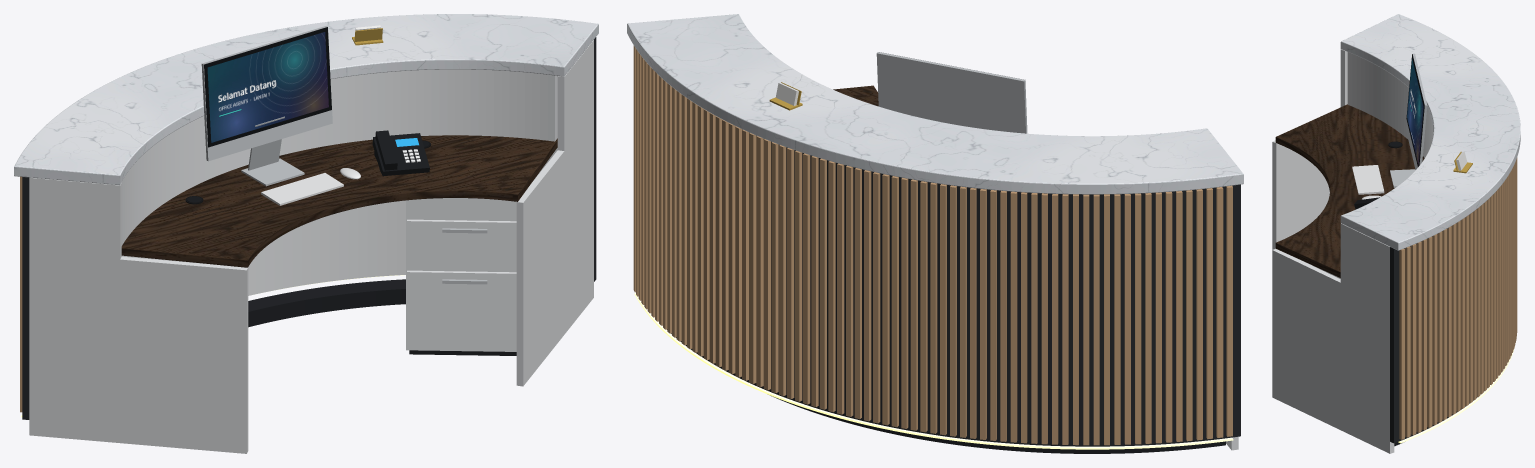
Rendered from Office_Lobby_Reception_Desk.glb.
3 views of the same model, side by side, from view 1: azimuth 30°, elevation 25°; view 2: azimuth 150°, elevation 25°; view 3: azimuth 270°, elevation 25° (orthographic). The views are drawn at different scales.
Visible parts, largest first — view 1: End_Gable_L, Marble_Transaction_Ledge, Walnut_Work_Surface, Transaction_Riser, End_Gable_R, Apron_Inner_Lining, AIO_Screen, Drawer_Front_2, Drawer_Front_1, Plinth_Recessed, Front_Apron_Backing, Drawer_Front_0 (+9 smaller); view 2: Front_Oak_Slats, Front_Apron_Backing, Marble_Transaction_Ledge, AIO_Body, Plinth_LED_Strip, Plinth_Recessed; view 3: Front_Oak_Slats, Marble_Transaction_Ledge, End_Gable_R, Walnut_Work_Surface, End_Gable_L, Transaction_Riser, Front_Apron_Backing, AIO_Screen, AIO_Keyboard, AIO_Body, Plinth_LED_Strip, AIO_Glass_Bezel (+1 smaller).
Boxes of the visible parts, box(x1,y1,x2,y2) form: End_Gable_L: box(29, 177, 248, 453); Marble_Transaction_Ledge: box(14, 14, 598, 185); Walnut_Work_Surface: box(121, 135, 557, 267); Transaction_Riser: box(121, 69, 557, 245); End_Gable_R: box(516, 40, 593, 386); Apron_Inner_Lining: box(121, 148, 557, 295); AIO_Screen: box(207, 32, 328, 142); Drawer_Front_2: box(407, 270, 516, 348); Drawer_Front_1: box(407, 219, 516, 272); Plinth_Recessed: box(248, 279, 405, 327); Front_Apron_Backing: box(22, 37, 596, 419); Drawer_Front_0: box(407, 198, 516, 221); Front_Oak_Slats: box(633, 45, 1232, 445); Front_Apron_Backing: box(667, 129, 1240, 446); Marble_Transaction_Ledge: box(627, 14, 1243, 194); AIO_Body: box(876, 52, 1027, 133); Plinth_LED_Strip: box(634, 292, 1233, 449); Plinth_Recessed: box(770, 395, 1225, 453); Front_Oak_Slats: box(1399, 157, 1517, 439); Marble_Transaction_Ledge: box(1340, 14, 1520, 250); End_Gable_R: box(1272, 223, 1394, 453); Walnut_Work_Surface: box(1275, 104, 1424, 277); End_Gable_L: box(1272, 49, 1347, 265); Transaction_Riser: box(1347, 52, 1433, 157); Front_Apron_Backing: box(1390, 241, 1483, 443); AIO_Screen: box(1407, 58, 1423, 165); AIO_Keyboard: box(1352, 165, 1384, 194); AIO_Body: box(1406, 53, 1427, 169); Plinth_LED_Strip: box(1398, 349, 1513, 443); AIO_Glass_Bezel: box(1406, 54, 1424, 166).
Bounding box in the file's own units: 2.4 × 1.23 × 1.1.
16 materials, 3 textured.
